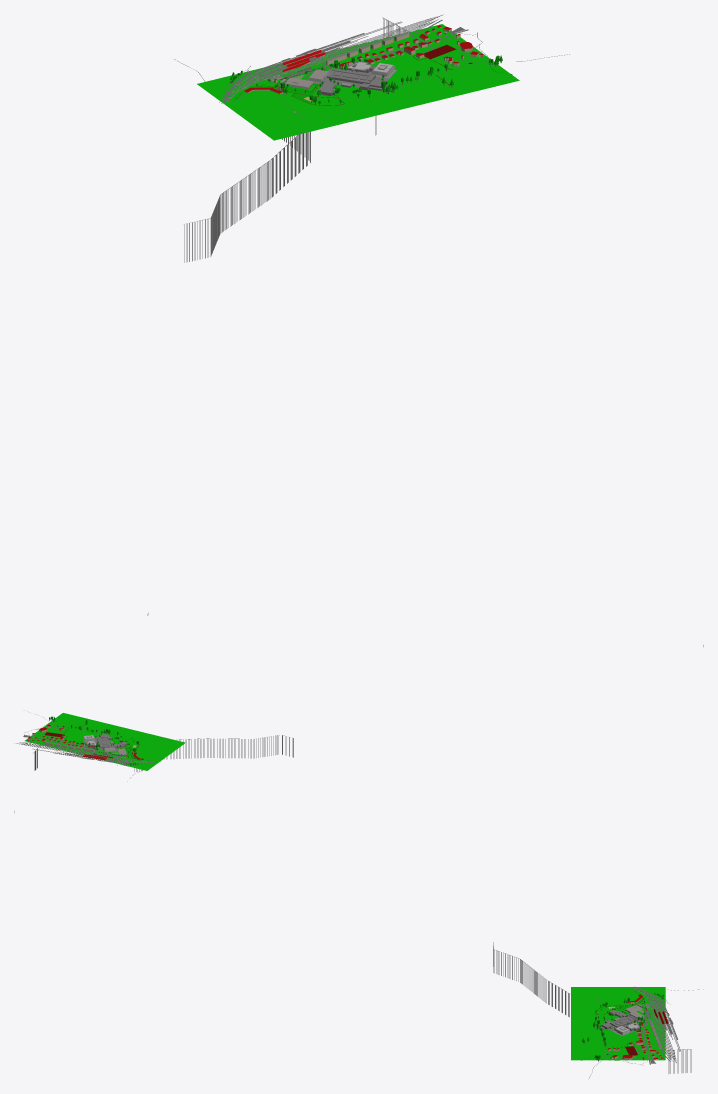
3 renders of one model, top to bottom at view 1: azimuth 30°, elevation 25°; view 2: azimuth 150°, elevation 25°; view 3: azimuth 270°, elevation 25°, orthographic. The views are drawn at different scales.
Parts seen in each view (by area): view 1: SurfaceArea932, SurfaceArea934, Bridge Holzsteg, SurfaceArea936, SurfaceArea933; view 2: SurfaceArea932, Bridge Holzsteg, SurfaceArea934, SurfaceArea936, SurfaceArea933, SurfaceArea935; view 3: SurfaceArea932, SurfaceArea934, Bridge Holzsteg, SurfaceArea936.
Part boxes in pixels (left/top/right/bottom): SurfaceArea932: left=210, top=66, right=385, bottom=140; SurfaceArea934: left=322, top=39, right=496, bottom=113; Bridge Holzsteg: left=184, top=131, right=310, bottom=262; SurfaceArea936: left=433, top=34, right=519, bottom=85; SurfaceArea933: left=197, top=59, right=320, bottom=93; SurfaceArea932: left=98, top=729, right=185, bottom=766; Bridge Holzsteg: left=134, top=735, right=293, bottom=771; SurfaceArea934: left=42, top=715, right=129, bottom=752; SurfaceArea936: left=31, top=713, right=73, bottom=738; SurfaceArea933: left=94, top=753, right=153, bottom=770; SurfaceArea935: left=36, top=739, right=97, bottom=754; SurfaceArea932: left=571, top=987, right=649, bottom=1020; SurfaceArea934: left=571, top=1020, right=649, bottom=1053; Bridge Holzsteg: left=493, top=942, right=569, bottom=1017; SurfaceArea936: left=571, top=1053, right=649, bottom=1060.
Size of the model in its own units: 239280 by 13710 by 262081.
